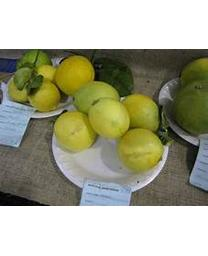lemon: (87, 96, 130, 138), (120, 129, 165, 169), (55, 113, 99, 152), (55, 56, 95, 96), (120, 95, 159, 132)
